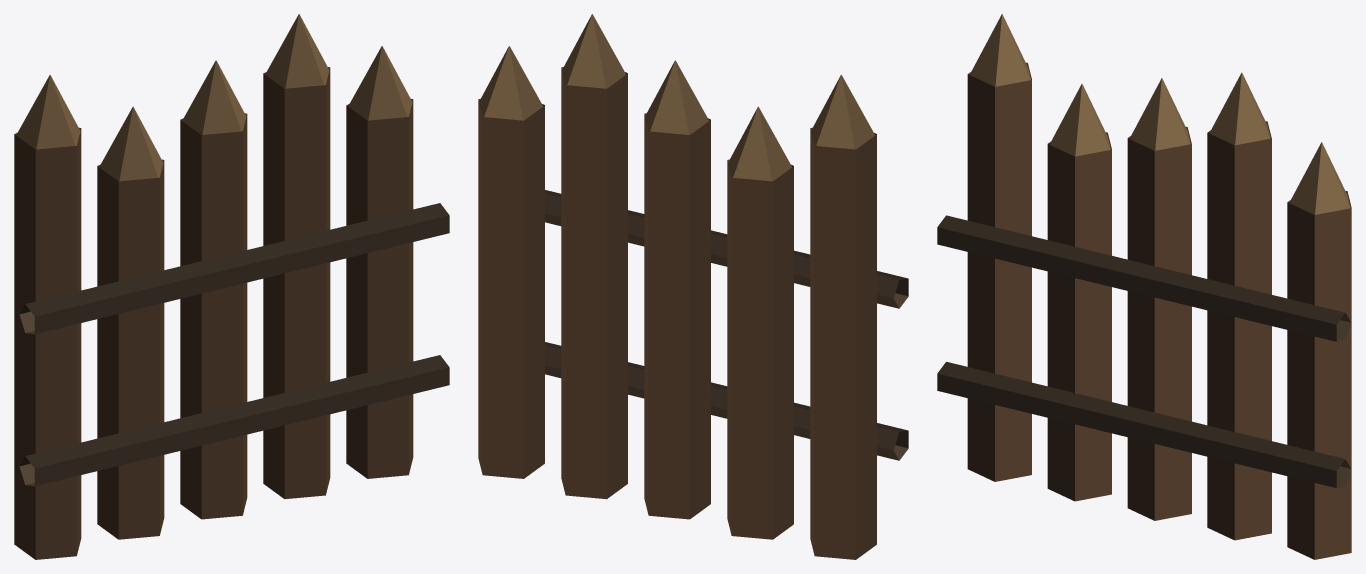
The picture shows the model from 3 angles, left to right: view 1: azimuth 30°, elevation 25°; view 2: azimuth 150°, elevation 25°; view 3: azimuth 330°, elevation 25°; orthographic projection. The views are drawn at different scales.
Visible parts, largest first — view 1: ab01755cf2aec440cf1117e9ab87eec636b3c5661eabce286673dc9dc182; view 2: ab01755cf2aec440cf1117e9ab87eec636b3c5661eabce286673dc9dc182; view 3: ab01755cf2aec440cf1117e9ab87eec636b3c5661eabce286673dc9dc182.
Part boxes in pixels (<box>): ab01755cf2aec440cf1117e9ab87eec636b3c5661eabce286673dc9dc182: <box>14,14,449,559</box>; ab01755cf2aec440cf1117e9ab87eec636b3c5661eabce286673dc9dc182: <box>478,14,908,559</box>; ab01755cf2aec440cf1117e9ab87eec636b3c5661eabce286673dc9dc182: <box>937,14,1351,559</box>.
Bounding box in the file's own units: 2 × 2.17 × 0.3593.
Materials: 1 (1 with a texture image).
